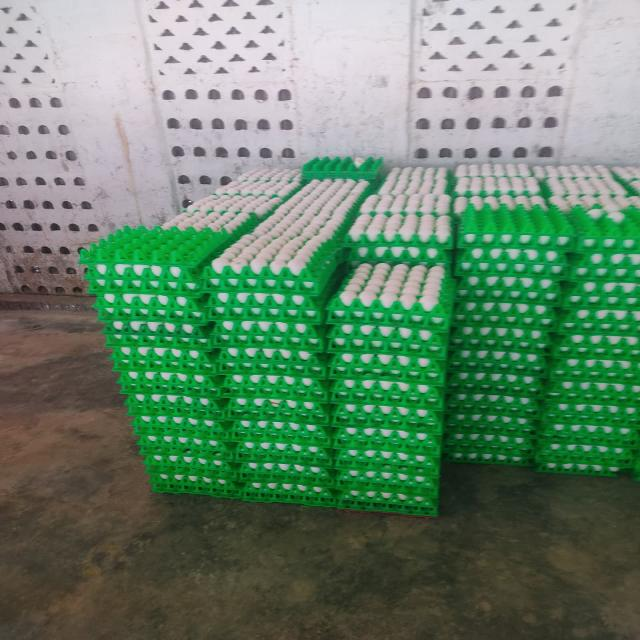egg_tray: (93, 208, 257, 323), (206, 181, 367, 294), (211, 180, 369, 286), (205, 194, 357, 300), (207, 210, 343, 322), (212, 181, 366, 276), (84, 228, 211, 340), (330, 317, 445, 431), (537, 166, 639, 279), (535, 370, 639, 475), (332, 363, 443, 460), (105, 321, 220, 414), (333, 380, 443, 475), (81, 227, 225, 297), (449, 302, 554, 394), (209, 272, 332, 350), (449, 305, 552, 398), (211, 292, 325, 376), (81, 228, 219, 296), (449, 307, 553, 395), (163, 170, 299, 236), (329, 328, 444, 406), (327, 262, 452, 332), (535, 166, 636, 250), (330, 347, 443, 422), (538, 166, 637, 250), (456, 206, 573, 276), (231, 418, 333, 497), (333, 388, 443, 461), (202, 243, 345, 297), (79, 227, 219, 282), (335, 440, 439, 514), (121, 364, 223, 438), (445, 371, 543, 448), (346, 194, 453, 263), (111, 332, 221, 398), (555, 196, 639, 280), (231, 418, 332, 487), (552, 303, 639, 383), (565, 220, 639, 313), (94, 290, 211, 348), (130, 408, 234, 472), (229, 415, 331, 480), (211, 293, 323, 352), (83, 226, 210, 278), (214, 316, 324, 376), (228, 416, 331, 480), (443, 396, 538, 465), (558, 280, 639, 359), (114, 360, 221, 418), (220, 342, 326, 398), (103, 323, 217, 375), (447, 372, 544, 433), (564, 257, 639, 332), (111, 346, 222, 396), (443, 406, 537, 465), (457, 204, 574, 251), (448, 342, 549, 396), (235, 430, 332, 486), (141, 446, 243, 498), (93, 288, 208, 334), (336, 464, 439, 515), (337, 464, 438, 516), (116, 361, 221, 410), (163, 195, 281, 238), (455, 271, 561, 318), (333, 424, 441, 470), (141, 447, 242, 496), (347, 218, 452, 264), (455, 274, 561, 318), (207, 281, 325, 320), (535, 430, 637, 474), (94, 299, 209, 338), (145, 450, 242, 496), (137, 434, 236, 479), (453, 164, 540, 214), (137, 422, 233, 467), (209, 290, 325, 326), (327, 323, 445, 358), (568, 206, 639, 264), (113, 358, 221, 396), (329, 351, 445, 386), (107, 337, 216, 374), (182, 180, 299, 214), (85, 258, 201, 292), (114, 360, 221, 396), (219, 342, 325, 378), (213, 318, 325, 352), (94, 292, 208, 324), (225, 389, 329, 424), (331, 377, 443, 409), (334, 443, 439, 477), (110, 343, 218, 376), (220, 343, 324, 376), (332, 401, 441, 432), (455, 246, 567, 276), (448, 344, 548, 377), (445, 428, 535, 464), (223, 372, 328, 402), (456, 274, 561, 304), (103, 320, 211, 349), (335, 466, 439, 496), (452, 300, 556, 330), (227, 419, 332, 448), (537, 420, 639, 449), (242, 476, 335, 507), (543, 398, 639, 428), (447, 390, 542, 420), (337, 488, 437, 516), (132, 414, 231, 442), (449, 348, 547, 376), (125, 392, 223, 419), (451, 325, 551, 351), (447, 411, 538, 438), (214, 170, 301, 198), (447, 371, 544, 396), (563, 278, 639, 309), (150, 473, 243, 498), (550, 358, 639, 384), (557, 306, 639, 334), (242, 482, 336, 506), (359, 192, 451, 216), (88, 278, 203, 297), (548, 380, 639, 404), (551, 334, 639, 358), (452, 194, 547, 216), (302, 156, 382, 182), (377, 168, 449, 196), (549, 194, 639, 214), (453, 176, 540, 196), (543, 176, 627, 196), (444, 451, 532, 466), (535, 461, 623, 476), (531, 164, 612, 180), (332, 318, 407, 335), (454, 163, 533, 179), (388, 476, 437, 496), (235, 168, 301, 182), (246, 464, 315, 476), (612, 166, 639, 196), (469, 321, 502, 344), (375, 266, 408, 287), (153, 228, 175, 257), (559, 358, 596, 374), (345, 376, 387, 388), (245, 466, 281, 478), (397, 438, 431, 450), (557, 416, 596, 426), (423, 330, 445, 347), (611, 167, 639, 180), (236, 416, 287, 423), (269, 468, 295, 481), (599, 354, 621, 368), (161, 400, 181, 414), (631, 448, 639, 481), (347, 378, 387, 383), (414, 269, 426, 284), (632, 456, 639, 481), (585, 210, 602, 220), (619, 210, 637, 219), (355, 266, 375, 274), (379, 394, 395, 404), (342, 480, 368, 486), (367, 223, 379, 234), (499, 303, 513, 312), (105, 330, 113, 345), (193, 326, 208, 332), (521, 330, 529, 341), (369, 412, 383, 418), (355, 280, 363, 290), (417, 413, 427, 421), (378, 282, 384, 294), (180, 460, 198, 464), (295, 418, 309, 423), (397, 380, 411, 385), (219, 296, 228, 303), (523, 304, 530, 312), (191, 226, 205, 230), (506, 335, 514, 342), (343, 200, 349, 209), (530, 326, 543, 330), (493, 407, 500, 414), (399, 438, 407, 444), (501, 326, 509, 332), (316, 474, 327, 478), (208, 214, 219, 218), (454, 446, 465, 450), (121, 372, 129, 377), (135, 321, 145, 325), (247, 484, 257, 488), (525, 320, 537, 323), (541, 467, 553, 470), (527, 402, 536, 406), (297, 488, 306, 492), (369, 464, 375, 470), (97, 265, 104, 270), (487, 322, 495, 326), (447, 440, 455, 444), (219, 296, 224, 302), (212, 296, 217, 302), (197, 327, 203, 332), (593, 261, 599, 266), (543, 321, 549, 326), (115, 231, 120, 236), (361, 234, 367, 238), (629, 428, 635, 432), (295, 464, 303, 467), (477, 394, 483, 398), (290, 492, 296, 496), (455, 326, 461, 330), (334, 381, 341, 384), (507, 308, 512, 312), (423, 321, 427, 326), (283, 464, 293, 466), (413, 383, 417, 388), (126, 340, 131, 344), (347, 279, 353, 282), (625, 440, 631, 443), (399, 456, 403, 460), (163, 456, 167, 460), (523, 305, 528, 308), (230, 391, 233, 396), (107, 324, 110, 329), (199, 461, 204, 464), (314, 467, 321, 469), (334, 381, 341, 383), (220, 190, 227, 192), (366, 382, 373, 384), (457, 442, 464, 444), (209, 234, 212, 238), (432, 476, 435, 480), (373, 279, 375, 285), (522, 398, 528, 400), (178, 234, 180, 240), (271, 198, 277, 200), (533, 321, 537, 324), (519, 443, 523, 446), (528, 442, 530, 448), (568, 336, 573, 338), (413, 366, 418, 368), (227, 469, 230, 472), (380, 467, 383, 470), (294, 303, 297, 306), (273, 463, 276, 466), (205, 328, 208, 331), (479, 398, 482, 401), (376, 330, 379, 333), (543, 322, 547, 324), (147, 260, 151, 262), (613, 223, 617, 225), (619, 222, 621, 226), (599, 216, 601, 220), (131, 370, 135, 372), (145, 362, 149, 364), (152, 255, 156, 257), (637, 430, 639, 434), (421, 416, 425, 418), (265, 220, 269, 222), (447, 438, 451, 440), (219, 442, 223, 444), (180, 345, 187, 346), (311, 422, 314, 424), (411, 476, 414, 478), (420, 289, 422, 292), (239, 299, 241, 302), (613, 305, 619, 306), (423, 385, 429, 386), (302, 499, 305, 501), (427, 469, 429, 472), (427, 363, 429, 366), (336, 356, 339, 358), (243, 338, 245, 341), (261, 477, 264, 479), (165, 460, 167, 463), (158, 349, 163, 350), (141, 323, 146, 324), (427, 470, 429, 472), (203, 238, 205, 240), (209, 420, 211, 422), (240, 296, 242, 298), (419, 382, 421, 384), (177, 325, 181, 326), (191, 242, 193, 244), (355, 462, 357, 464), (370, 452, 374, 453), (397, 322, 401, 323), (446, 446, 448, 448), (357, 229, 360, 230), (164, 343, 167, 344), (102, 283, 105, 284), (81, 262, 83, 263), (554, 424, 555, 426), (200, 421, 202, 422), (389, 456, 390, 458), (491, 308, 492, 310), (100, 240, 101, 242), (429, 387, 431, 388), (142, 289, 144, 290), (594, 439, 595, 441), (201, 252, 203, 253), (191, 235, 192, 237), (269, 207, 270, 209), (293, 500, 295, 501), (631, 190, 632, 192), (538, 384, 539, 386), (502, 451, 504, 452), (471, 407, 472, 408), (407, 474, 408, 475), (318, 320, 319, 321), (376, 382, 377, 383), (436, 340, 437, 341), (135, 354, 137, 354), (498, 325, 499, 325), (124, 258, 125, 258), (211, 252, 212, 252), (305, 188, 306, 188), (458, 385, 461, 385), (474, 410, 475, 410), (516, 317, 518, 317), (613, 257, 614, 257), (408, 217, 410, 217), (552, 423, 553, 423), (354, 487, 355, 487), (603, 317, 603, 319), (623, 314, 623, 314), (609, 214, 613, 214), (347, 290, 348, 290), (411, 288, 412, 288), (387, 266, 388, 266), (471, 379, 472, 379), (509, 336, 510, 336), (540, 306, 543, 306), (639, 263, 639, 263), (256, 372, 257, 372), (296, 299, 298, 299), (294, 197, 295, 197), (269, 463, 270, 463), (575, 336, 585, 336), (130, 412, 131, 412), (118, 323, 121, 323), (214, 407, 215, 407), (249, 314, 251, 314), (249, 279, 250, 279), (161, 289, 161, 291), (110, 274, 112, 274), (253, 199, 254, 199), (285, 500, 287, 500), (156, 461, 157, 461), (639, 435, 639, 437), (335, 368, 337, 368), (246, 334, 248, 334), (256, 478, 260, 478), (332, 334, 333, 334), (458, 439, 460, 439), (470, 438, 476, 438), (139, 441, 139, 444)
